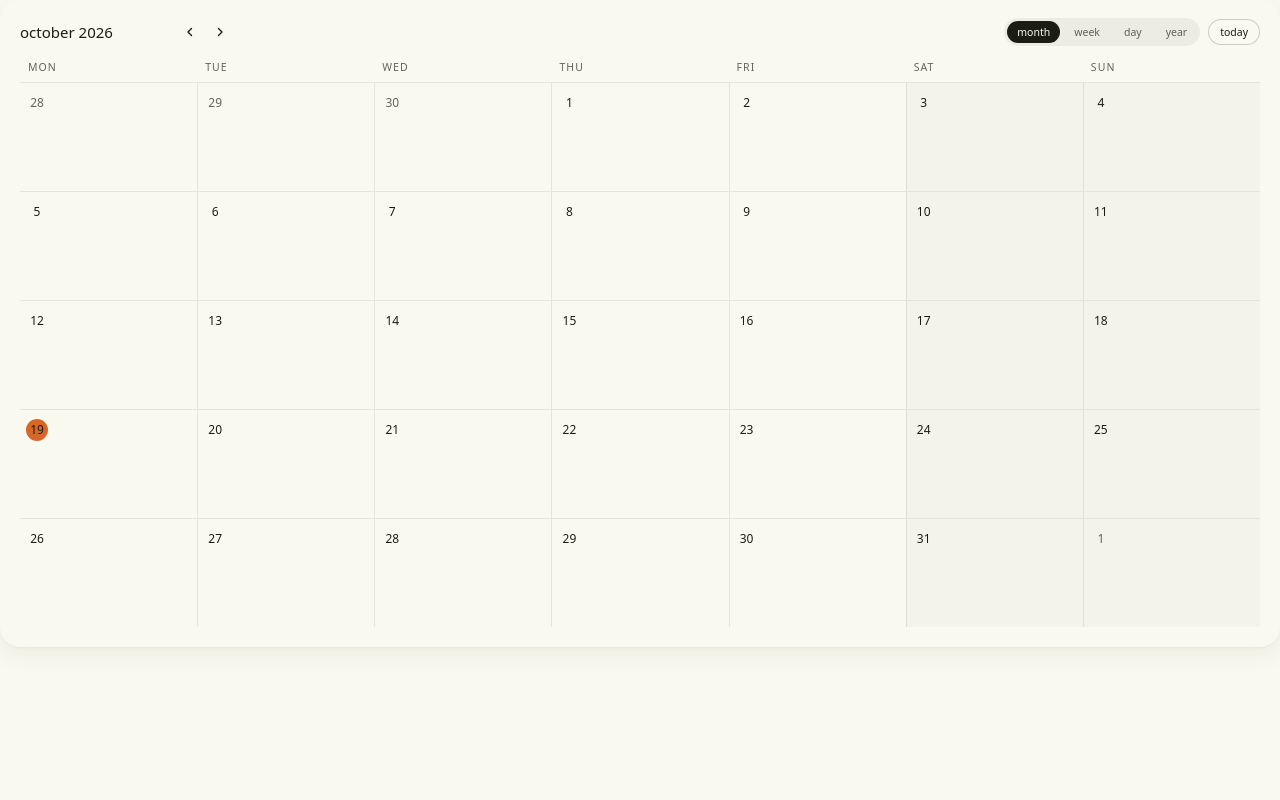
Test: day header (KAN-455) › the month span keeps Previous month and Next month and steps by month
This screenshot has width=1280, height=800.
Check: the text "october 2026" is shown, box [20,22,113,42]
Check: the button named "Previous month" is shown, box [176,18,204,46]
Click the button named "Next month": (220, 32) [206,18,234,46]
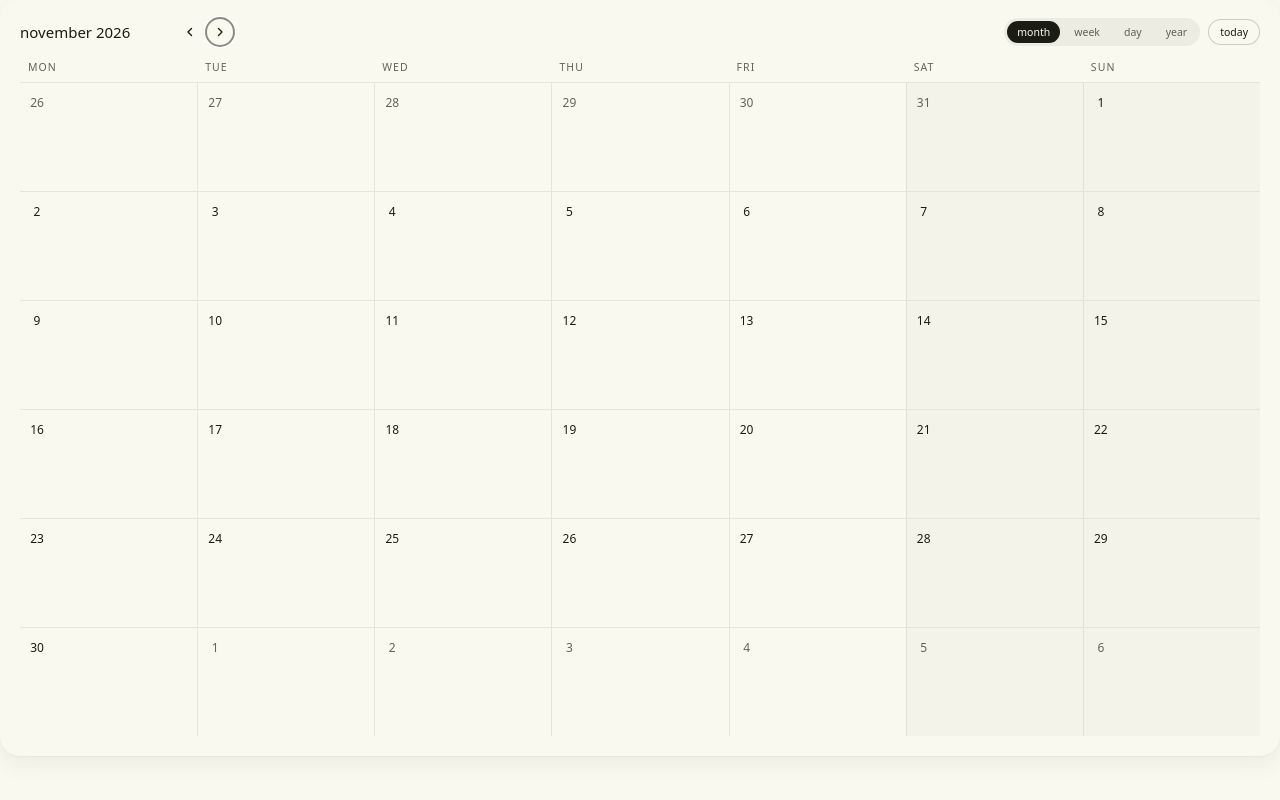
Check: the text "november 2026" is shown, box [20,22,130,42]
Click the button named "Previous month": (190, 32) [176,18,204,46]
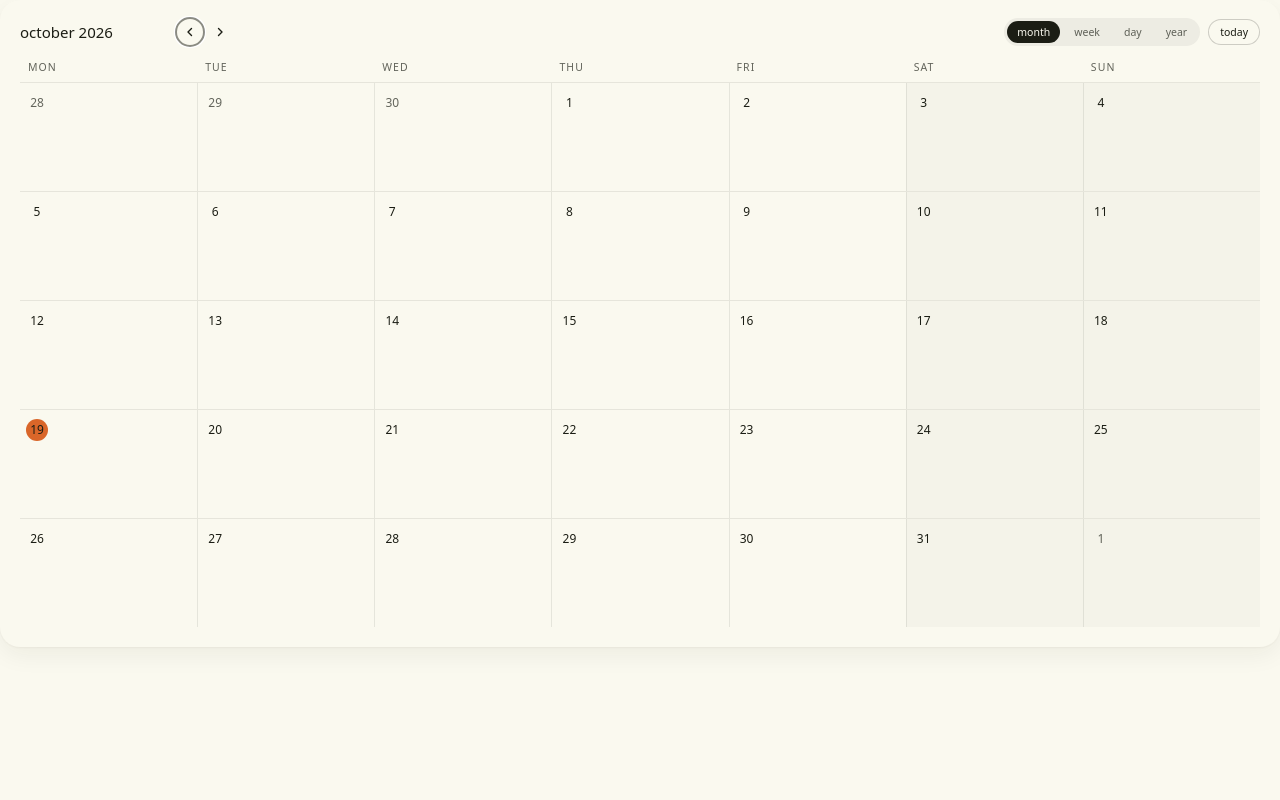
Check: the text "october 2026" is shown, box [20,22,113,42]
Click the button named "Next month": (220, 32) [206,18,234,46]
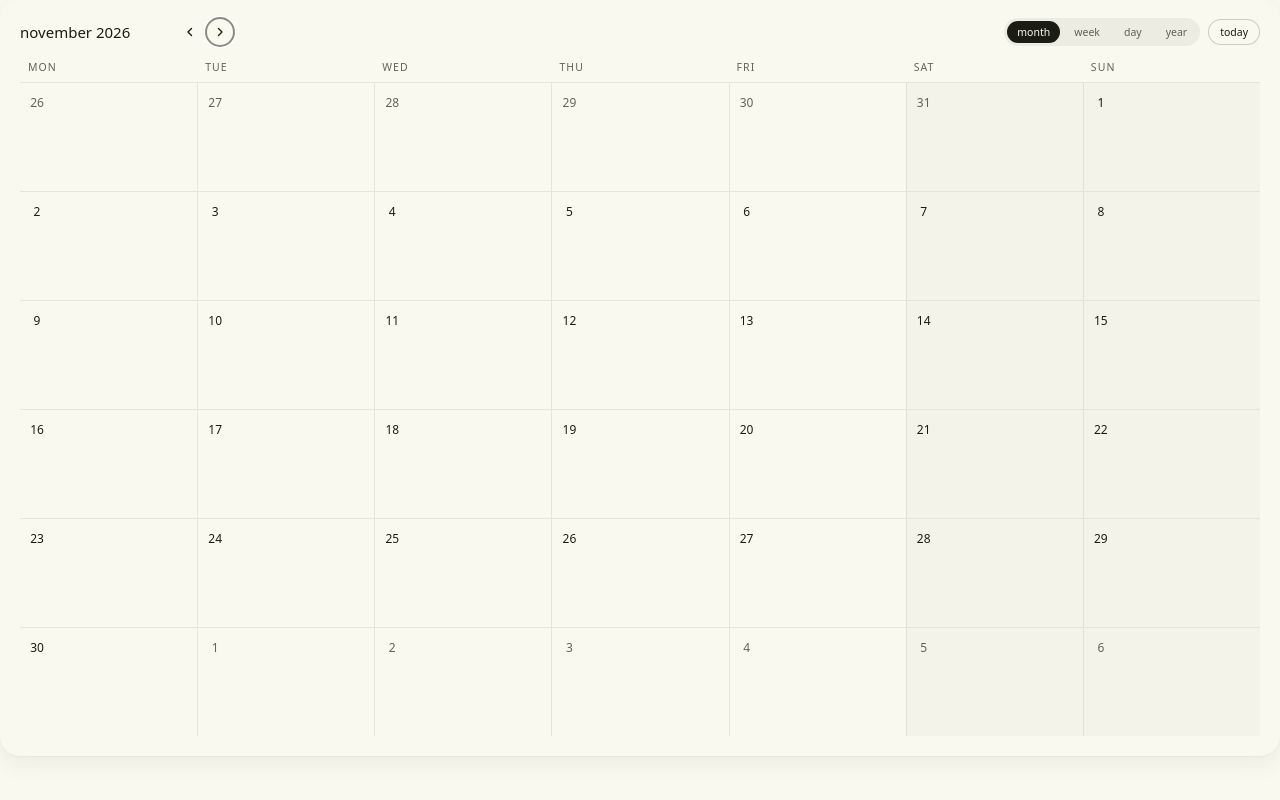
Click the button "today": (1234, 32) [1208,19,1260,45]
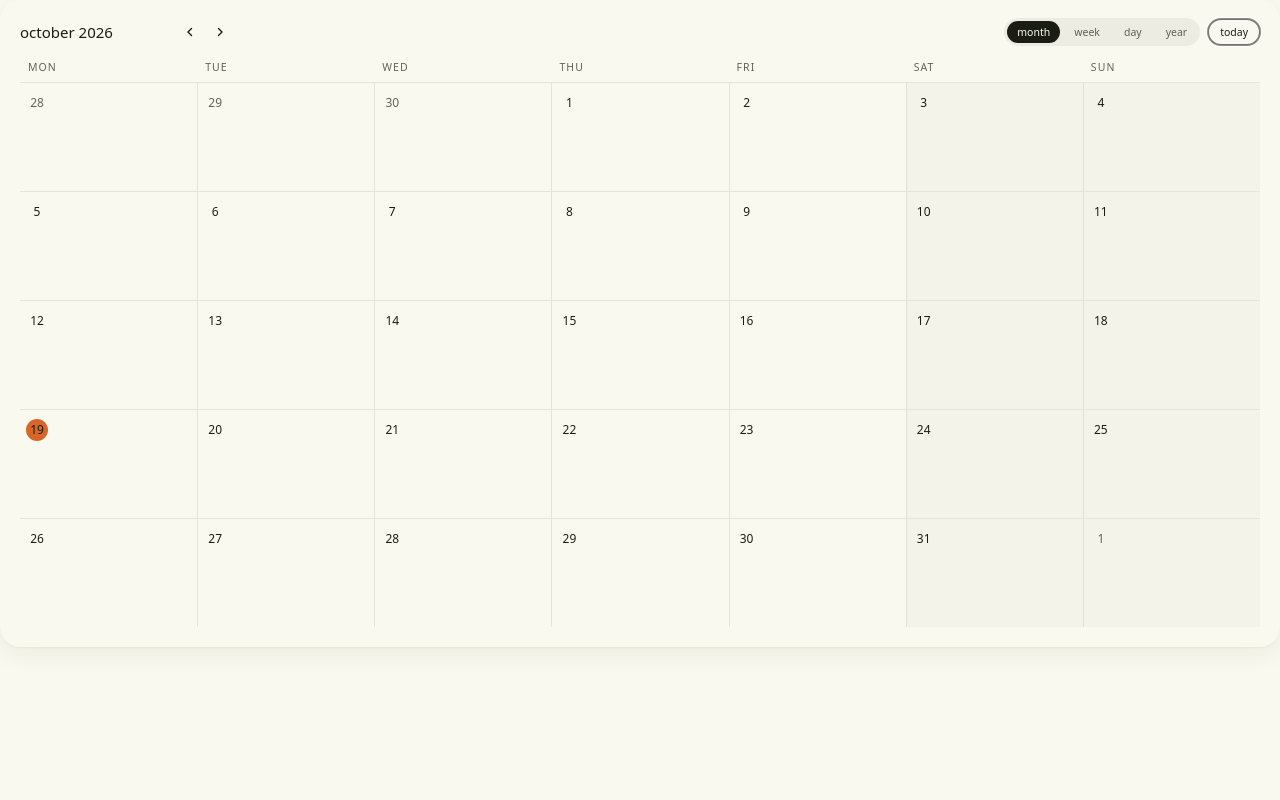
Check: the radio button labelled "month" is checked, box [1007,21,1060,43]
Check: the text "october 2026" is shown, box [20,22,113,42]
